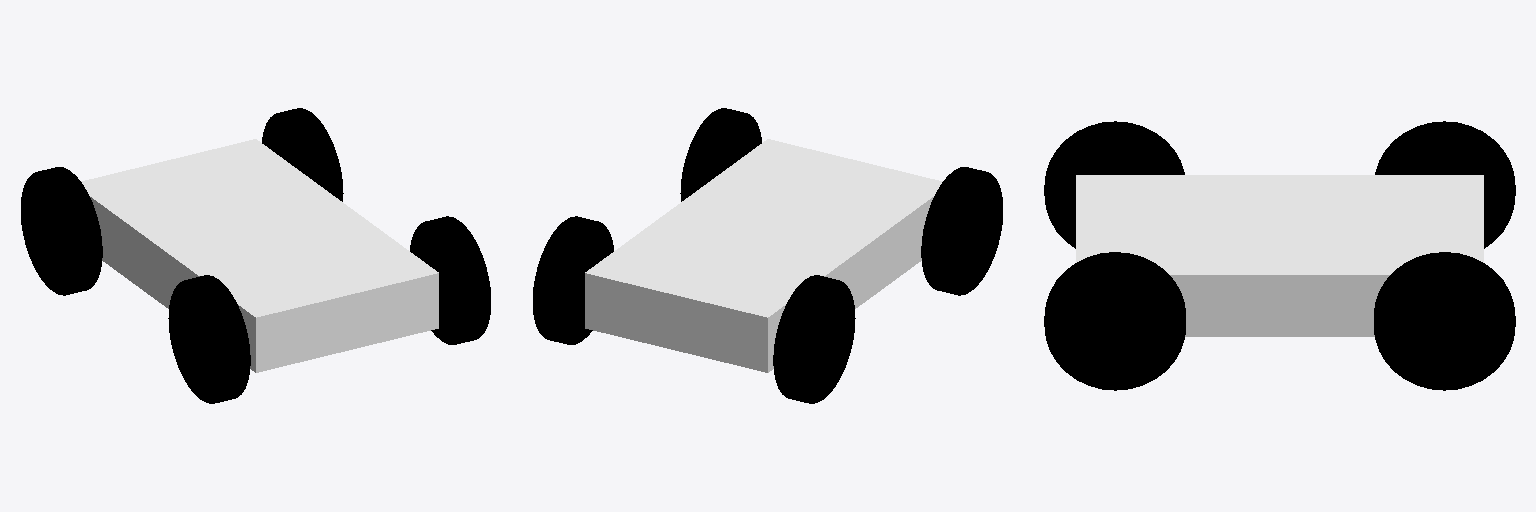
URDF robot description (horus):
<?xml version="1.0"?>
<robot name="horus">
	<link name="base_link">
		<visual>
			<geometry>
				<box size="0.19812 0.3429 0.05715"/>
			</geometry>
			<origin rpy="0 0 0" xyz="0 0 0"/>
			<material name="white">
				<color rgba="1 1 1 1"/>
			</material>
		</visual>
	</link>

	

	<link name="wheel_1">
		<visual>
			<geometry>
				<cylinder length="0.02" radius="0.05969"/>
			</geometry>
			<origin rpy="0 1.57 0" xyz="0.13 0.13843 0"/>
			<material name="black">
				<color rgba="0 0 0 1"/>
			</material>
		</visual>
	</link>

	<link name="wheel_2">
		<visual>
			<geometry>
				<cylinder length="0.02" radius="0.05969"/>
			</geometry>
			<origin rpy="0 1.57 0" xyz="-0.13 0.13843 0"/>
			<material name="black"/>
		</visual>
	</link>

	<link name="wheel_3">
		<visual>
			<geometry>
				<cylinder length="0.02" radius="0.05969"/>
			</geometry>
			<origin rpy="0 1.57 0" xyz="0.13 -0.13843 0"/>
			<material name="black"/>
		</visual>
	</link>

	<link name="wheel_4">
		<visual>
			<geometry>
				<cylinder length="0.02" radius="0.05969"/>
			</geometry>
			<origin rpy="0 1.57 0" xyz="-0.13 -0.13843 0"/>
			<material name="black"/>
		</visual>
	</link>

	

	<joint name="base_to_wheel1" type="fixed">
		<parent link="base_link"/>
		<child link="wheel_1"/>
		<origin xyz="0 0 0"/>
	</joint>

	<joint name="base_to_wheel2" type="fixed">
		<parent link="base_link"/>
		<child link="wheel_2"/>
		<origin xyz="0 0 0"/>
	</joint>

	<joint name="base_to_wheel3" type="fixed">
		<parent link="base_link"/>
		<child link="wheel_3"/>
		<origin xyz="0 0 0"/>
	</joint>

	<joint name="base_to_wheel4" type="fixed">
		<parent link="base_link"/>
		<child link="wheel_4"/>
		<origin xyz="0 0 0"/>
	</joint>

</robot>

--- Render facts (derived) ---
The picture shows the robot from 3 angles, left to right: view 1: azimuth 30°, elevation 25°; view 2: azimuth 150°, elevation 25°; view 3: azimuth 270°, elevation 25°; orthographic projection.
Robot: horus — 5 links, 4 joints (4 fixed); root link base_link; default pose: all joints at 0.
Links seen in each view (by area): view 1: base_link, wheel_4, wheel_2, wheel_3, wheel_1; view 2: base_link, wheel_2, wheel_4, wheel_1, wheel_3; view 3: base_link, wheel_1, wheel_3, wheel_2, wheel_4.
Boxes of the visible links, bbox=[...] form: base_link: bbox=[81, 139, 438, 372]; wheel_4: bbox=[168, 275, 250, 403]; wheel_2: bbox=[21, 167, 102, 295]; wheel_3: bbox=[410, 216, 490, 344]; wheel_1: bbox=[262, 108, 343, 201]; base_link: bbox=[585, 139, 942, 372]; wheel_2: bbox=[773, 275, 855, 403]; wheel_4: bbox=[921, 167, 1002, 295]; wheel_1: bbox=[533, 216, 613, 344]; wheel_3: bbox=[680, 108, 761, 201]; base_link: bbox=[1076, 175, 1483, 336]; wheel_1: bbox=[1374, 252, 1515, 390]; wheel_3: bbox=[1044, 252, 1185, 390]; wheel_2: bbox=[1375, 121, 1515, 248]; wheel_4: bbox=[1044, 121, 1184, 248].
Bounding box of the posed robot: 0.2801 × 0.3962 × 0.1194 m (x, y, z).
Geometry: primitives only (box / cylinder / sphere), no mesh files.